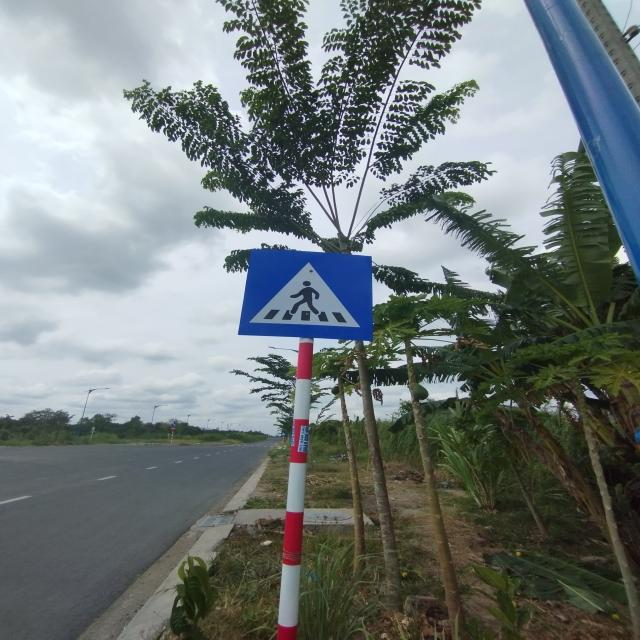Giao_Nhau_Duong_Uu_Tien: (238, 248, 372, 342)
